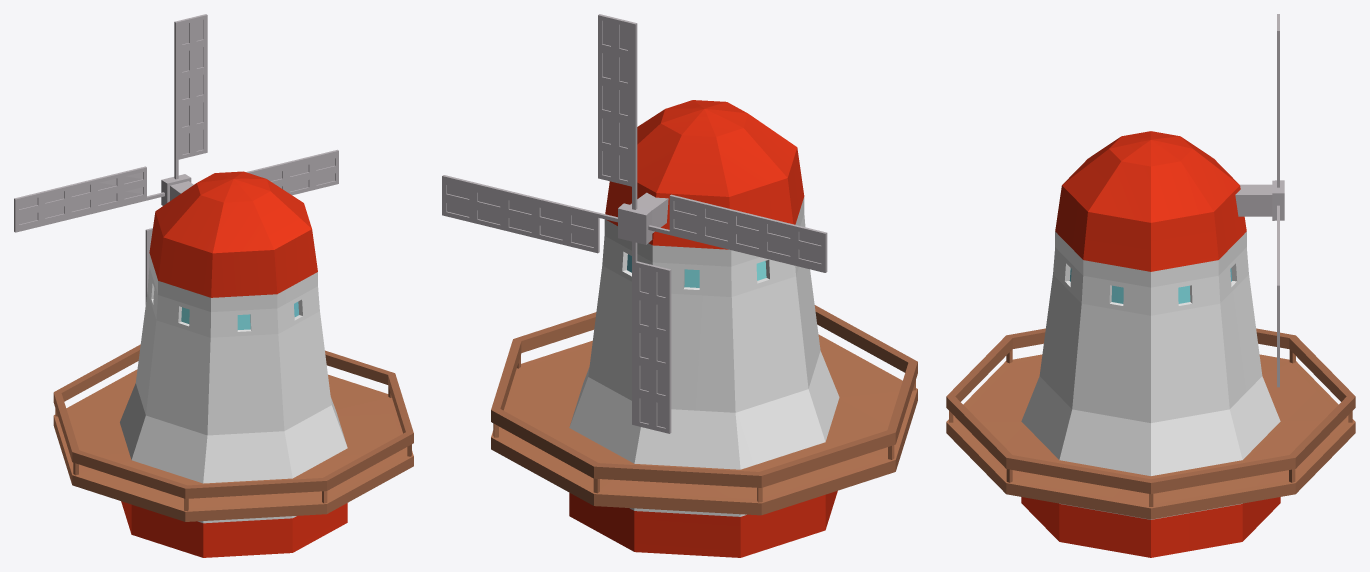
File: Windmill3.3.3.fbx
3 renders of one model, left to right at view 1: azimuth 30°, elevation 25°; view 2: azimuth 150°, elevation 25°; view 3: azimuth 270°, elevation 25°, orthographic. The views are drawn at different scales.
Visible parts, largest first — view 1: body, propeller; view 2: body, propeller; view 3: body, propeller.
Part boxes in pixels (x1,y1,x2,y2): body: (53, 171, 413, 557); propeller: (14, 14, 338, 304); body: (491, 100, 917, 557); propeller: (442, 14, 827, 433); body: (946, 131, 1355, 557); propeller: (1235, 14, 1284, 387).
Size of the model in its own units: 7.2 by 9.45 by 7.18.
Materials: 2 (1 with a texture image).
